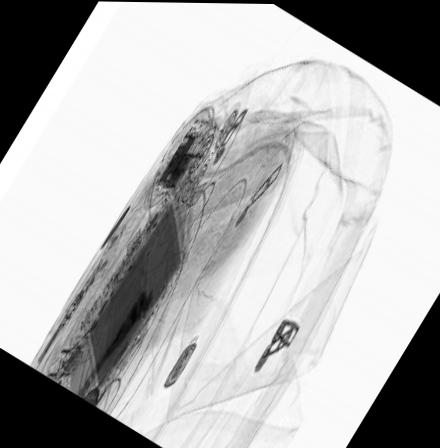Powerbank: (83, 192, 185, 390)
